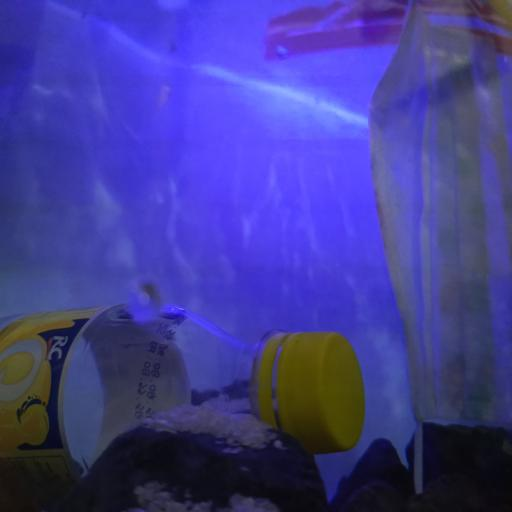bottle_cap: (280, 328, 365, 450)
mask: (368, 0, 512, 431)
plastic_bottle: (0, 303, 367, 488)
